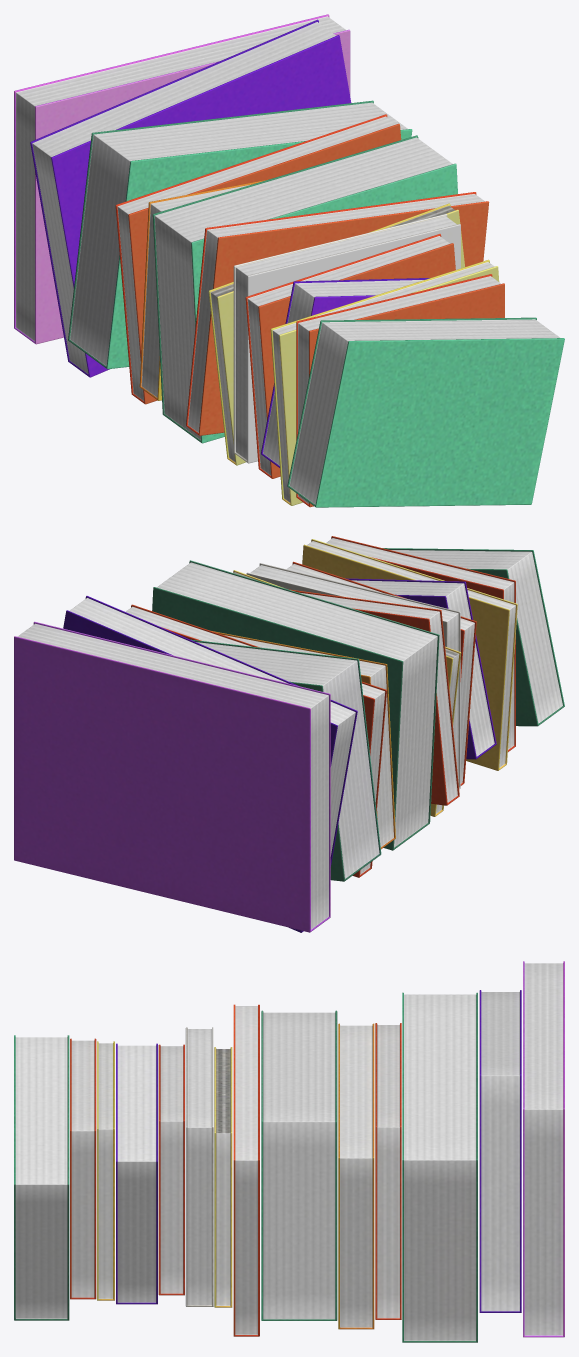
Rendered from book.obj.
3 views of the same model, one above another, from view 1: azimuth 30°, elevation 25°; view 2: azimuth 150°, elevation 25°; view 3: azimuth 270°, elevation 25° (orthographic). The views are drawn at different scales.
Visible parts, largest first — view 1: book; view 2: book; view 3: book.
Part boxes in pixels (x1,y1,x2,y2): book: (14,14,564,507); book: (14,536,564,932); book: (14,961,564,1342).
Bounding box in the file's own units: 11.04 × 9.11 × 16.8.
Materials: 1 (1 with a texture image).
